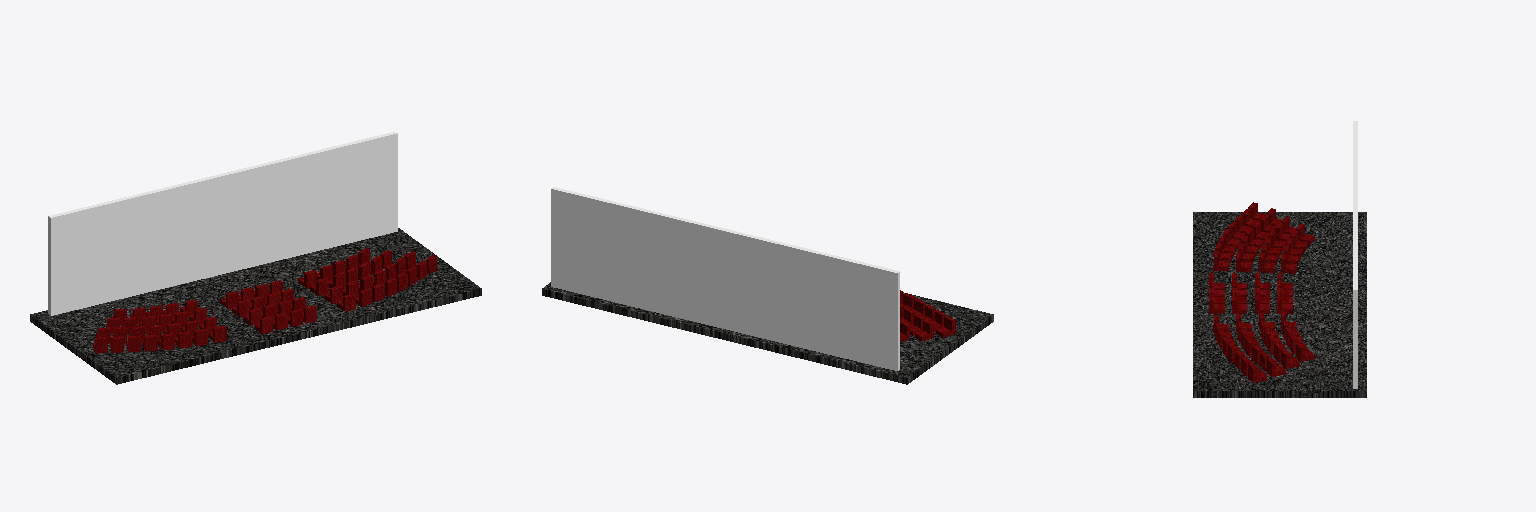
3 views of the same model, side by side, from view 1: azimuth 30°, elevation 25°; view 2: azimuth 150°, elevation 25°; view 3: azimuth 270°, elevation 25° (orthographic).
Parts seen in each view (by area): view 1: group1 pCube1, group1 Box02; view 2: group1 pCube1, group1 Box02; view 3: group1 Box02, group1 pCube1.
Part boxes in pixels (bbox=[...]): group1 pCube1: bbox=[48, 132, 397, 315]; group1 Box02: bbox=[30, 228, 481, 384]; group1 pCube1: bbox=[551, 187, 899, 370]; group1 Box02: bbox=[542, 282, 993, 384]; group1 Box02: bbox=[1193, 212, 1366, 397]; group1 pCube1: bbox=[1353, 121, 1357, 388].
Bounding box in the file's own units: 78.35 × 21.48 × 32.19.
Materials: 3 (2 with a texture image).